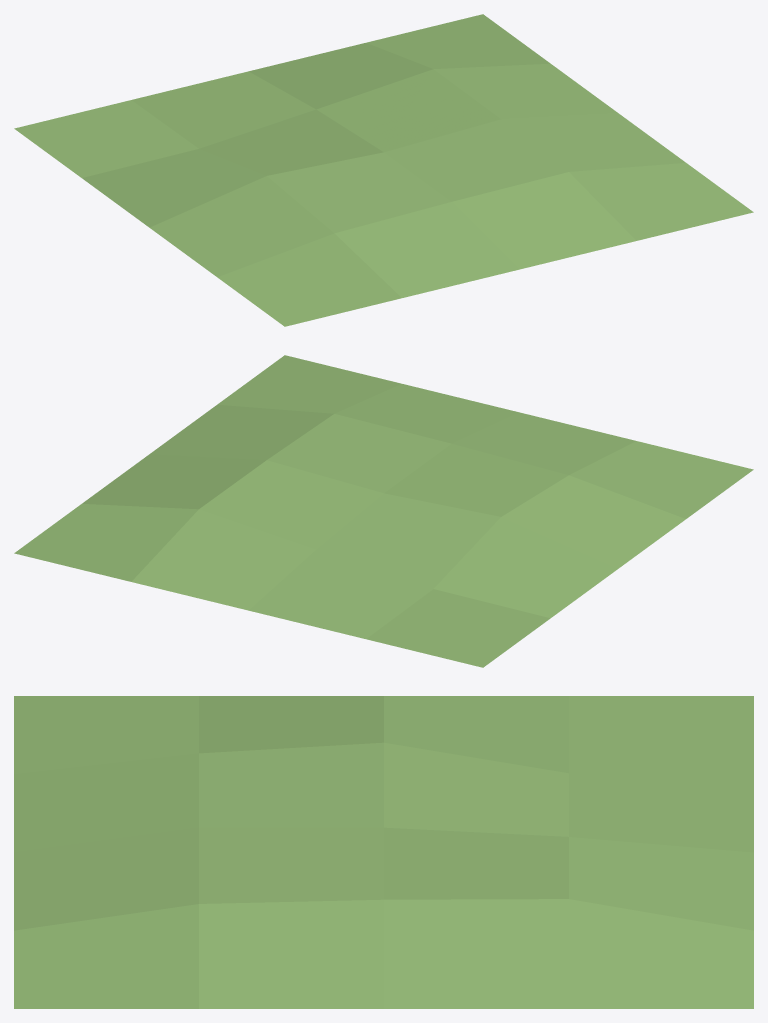
Rendered from Tile_05_Grass_Dark.glb.
The picture shows the model from 3 angles, top to bottom: view 1: azimuth 30°, elevation 25°; view 2: azimuth 150°, elevation 25°; view 3: azimuth 270°, elevation 25°; orthographic projection. The views are drawn at different scales.
Parts seen in each view (by area): view 1: Tile_Grass_Dark; view 2: Tile_Grass_Dark; view 3: Tile_Grass_Dark.
Boxes of the visible parts, x1,y1,x2,y2 form: Tile_Grass_Dark: (14, 14, 753, 326); Tile_Grass_Dark: (14, 355, 753, 667); Tile_Grass_Dark: (14, 696, 753, 1008).
Bounding box in the file's own units: 0.2 × 0.00943 × 0.2.
